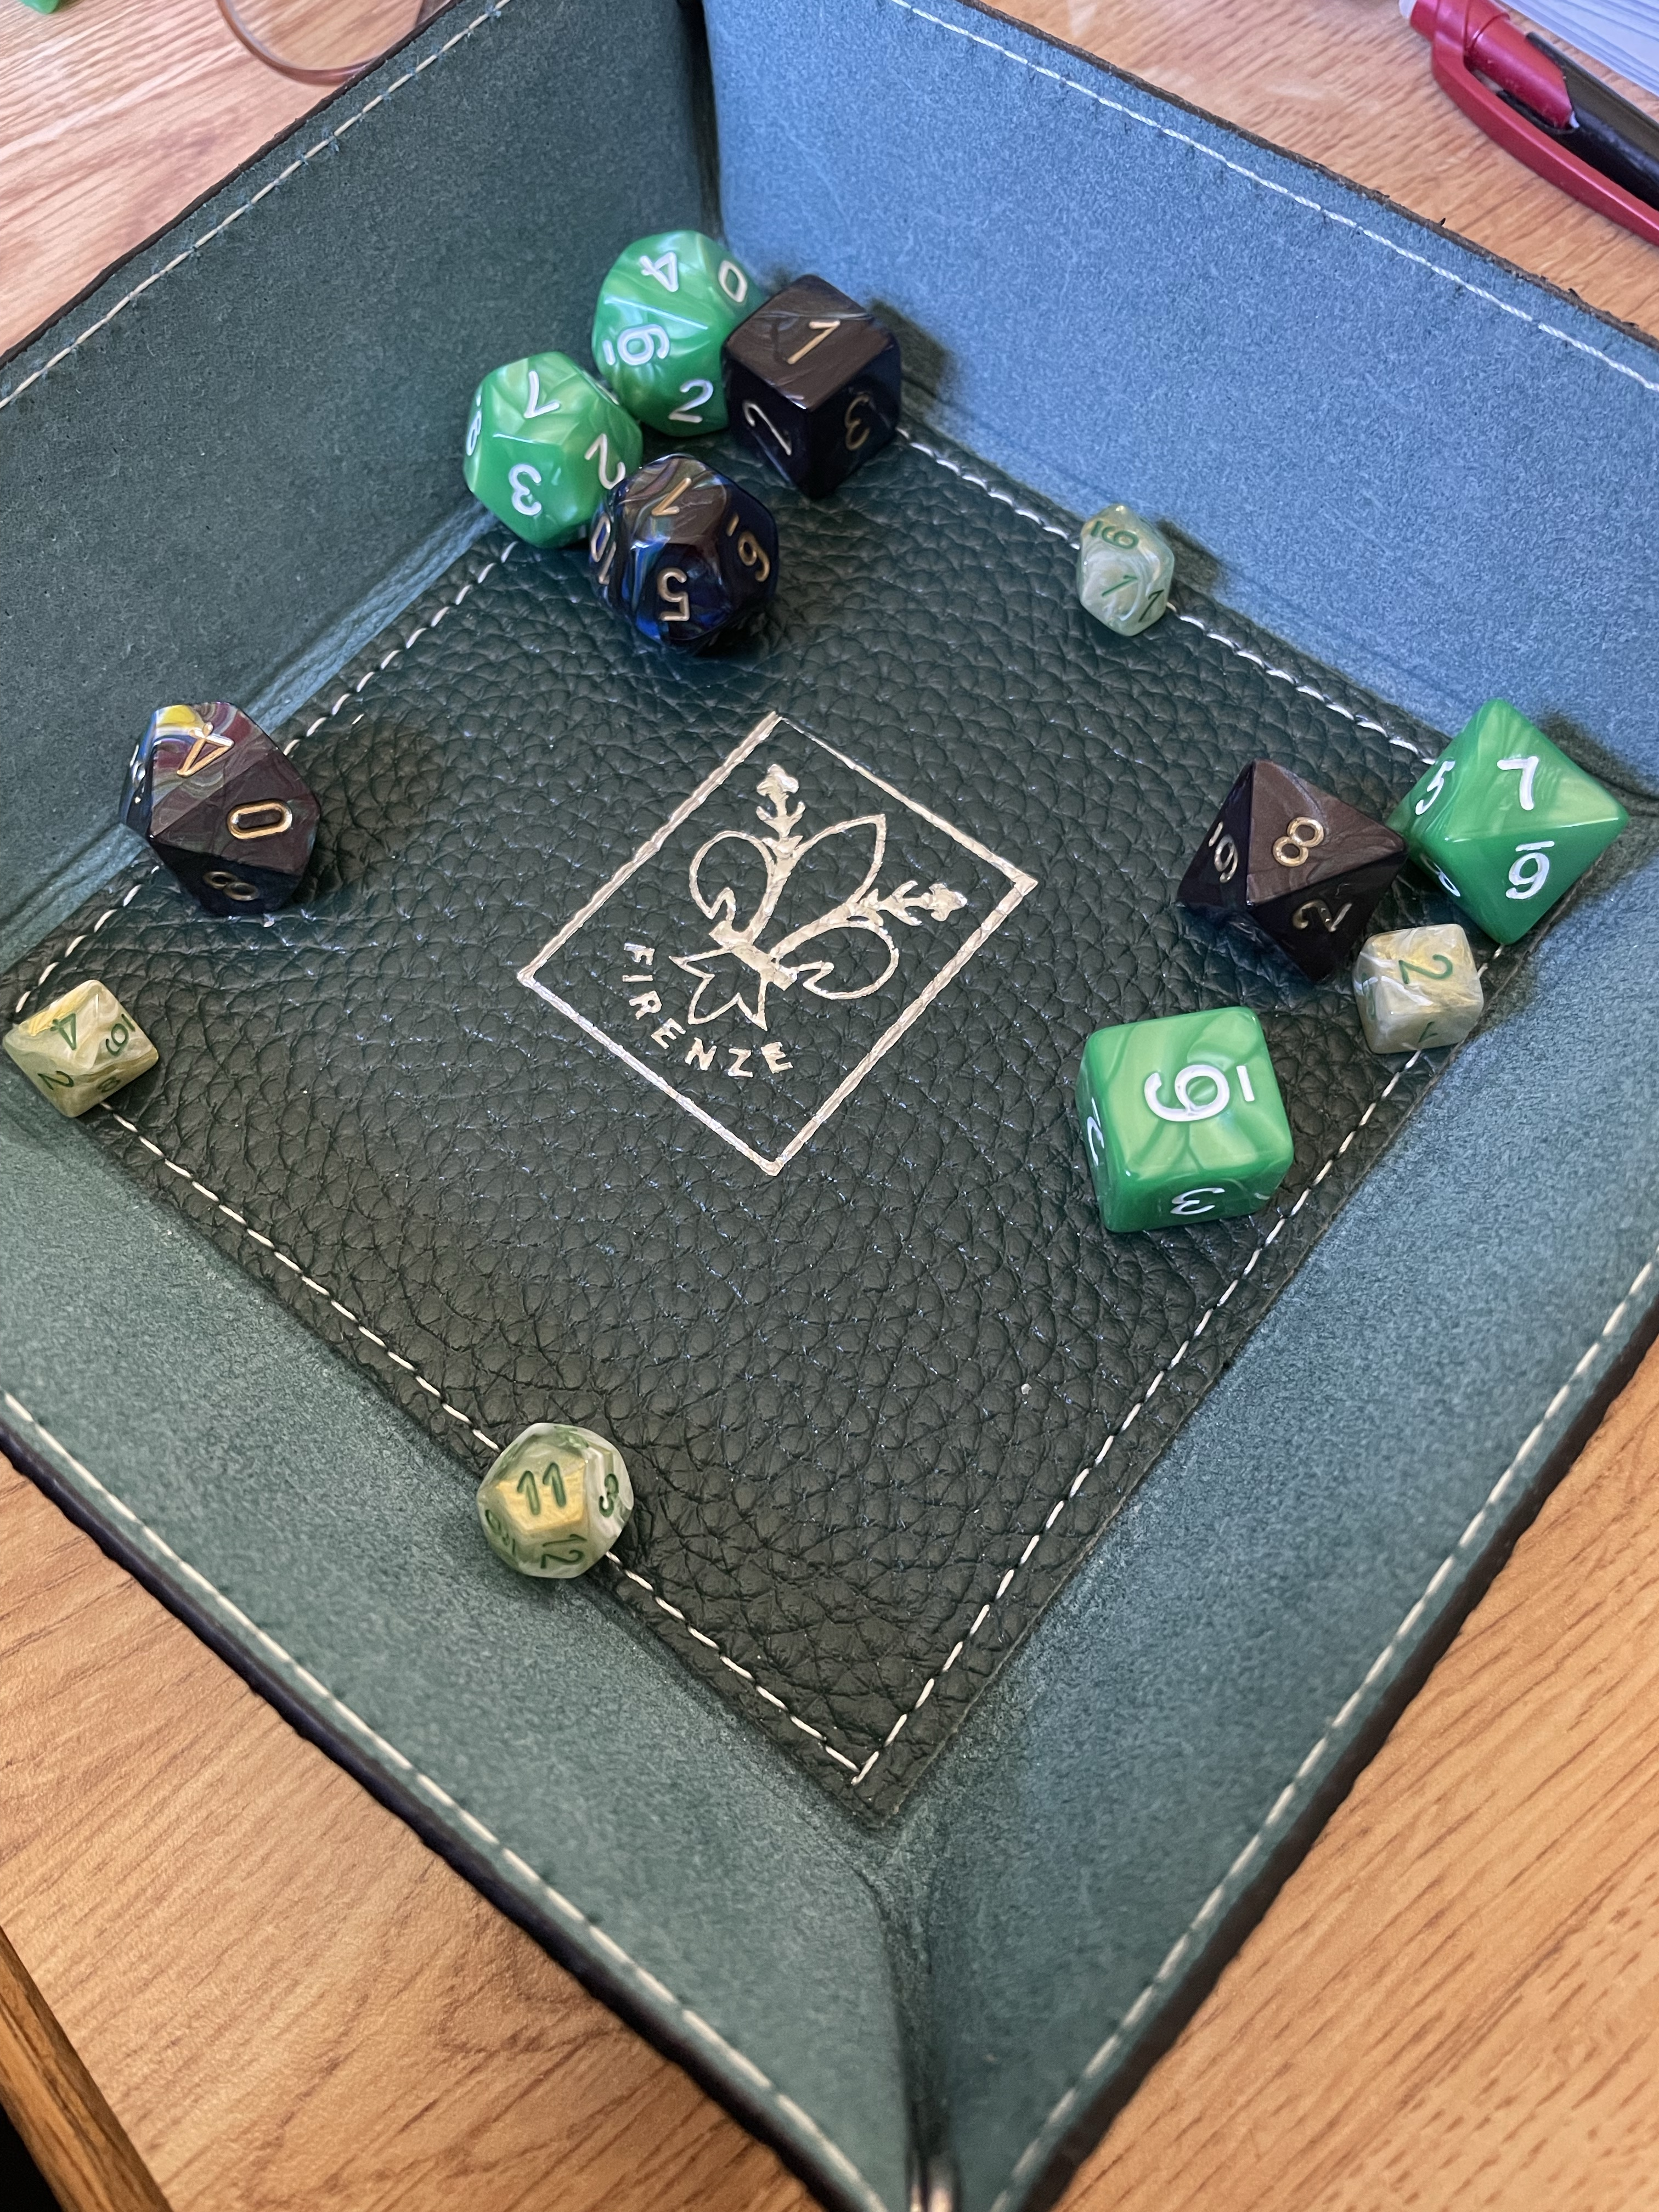eight: (1162, 726, 1417, 986)
eleven: (427, 1372, 687, 1590)
four: (71, 669, 373, 927), (547, 183, 795, 441), (5, 965, 166, 1148)
nine: (1032, 453, 1204, 681)
one: (704, 266, 943, 509), (566, 444, 807, 655)
seven: (1377, 669, 1642, 965), (439, 326, 664, 523)
six: (1028, 977, 1368, 1251)
two: (1340, 900, 1500, 1062)
